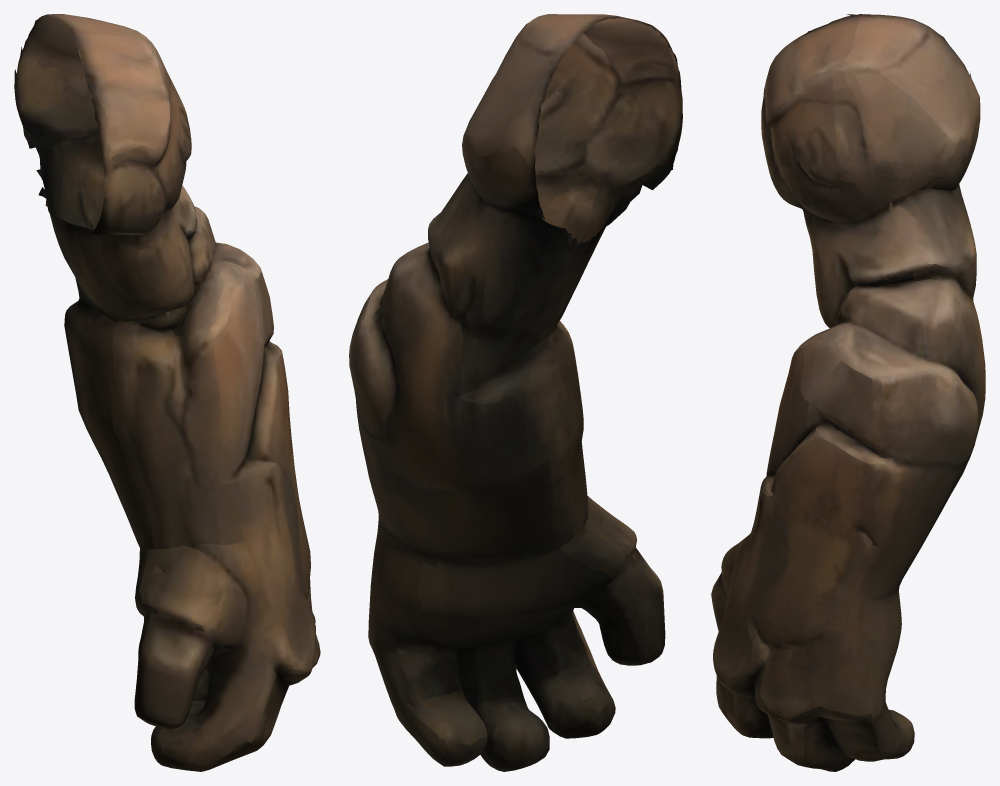
File: colossus_slam_right_arm.glb
The picture shows the model from 3 angles, left to right: view 1: azimuth 30°, elevation 25°; view 2: azimuth 150°, elevation 25°; view 3: azimuth 270°, elevation 25°; orthographic projection. The views are drawn at different scales.
Parts seen in each view (by area): view 1: world; view 2: world; view 3: world.
Part boxes in pixels (x1,y1,x2,y2): world: (14,14,320,771); world: (349,14,682,771); world: (711,14,985,771).
Size of the model in its own units: 0.0764 by 0.2226 by 0.0788.
1 material, 1 textured.
